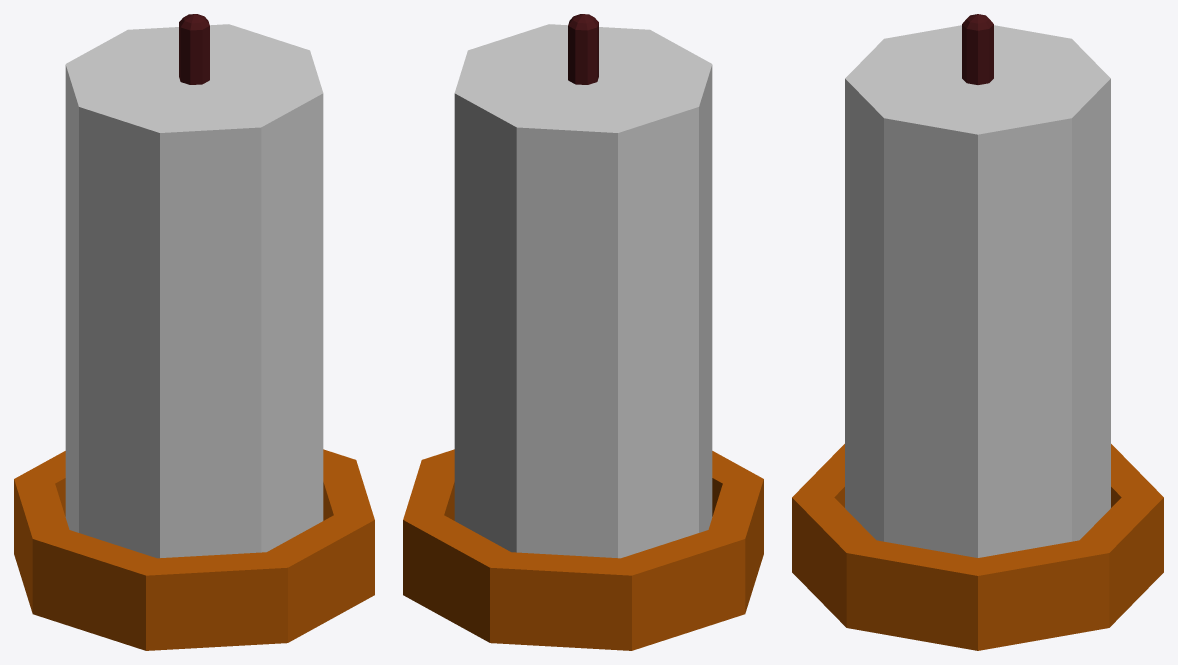
The model's file is Vela.fbx.
The picture shows the model from 3 angles, left to right: view 1: azimuth 30°, elevation 25°; view 2: azimuth 150°, elevation 25°; view 3: azimuth 270°, elevation 25°; orthographic projection.
Parts seen in each view (by area): view 1: Vela; view 2: Vela; view 3: Vela.
Boxes of the visible parts, left/top/right/bottom form: Vela: left=14, top=14, right=374, bottom=650; Vela: left=403, top=14, right=763, bottom=650; Vela: left=792, top=14, right=1163, bottom=650.
Bounding box in the file's own units: 10.11 × 16.75 × 10.11.
